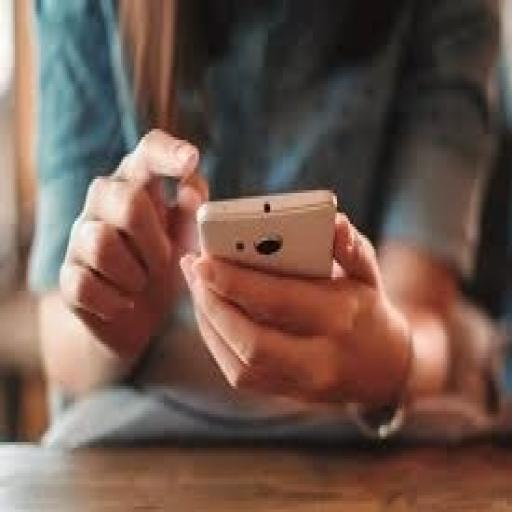texting: (24, 0, 510, 434)
